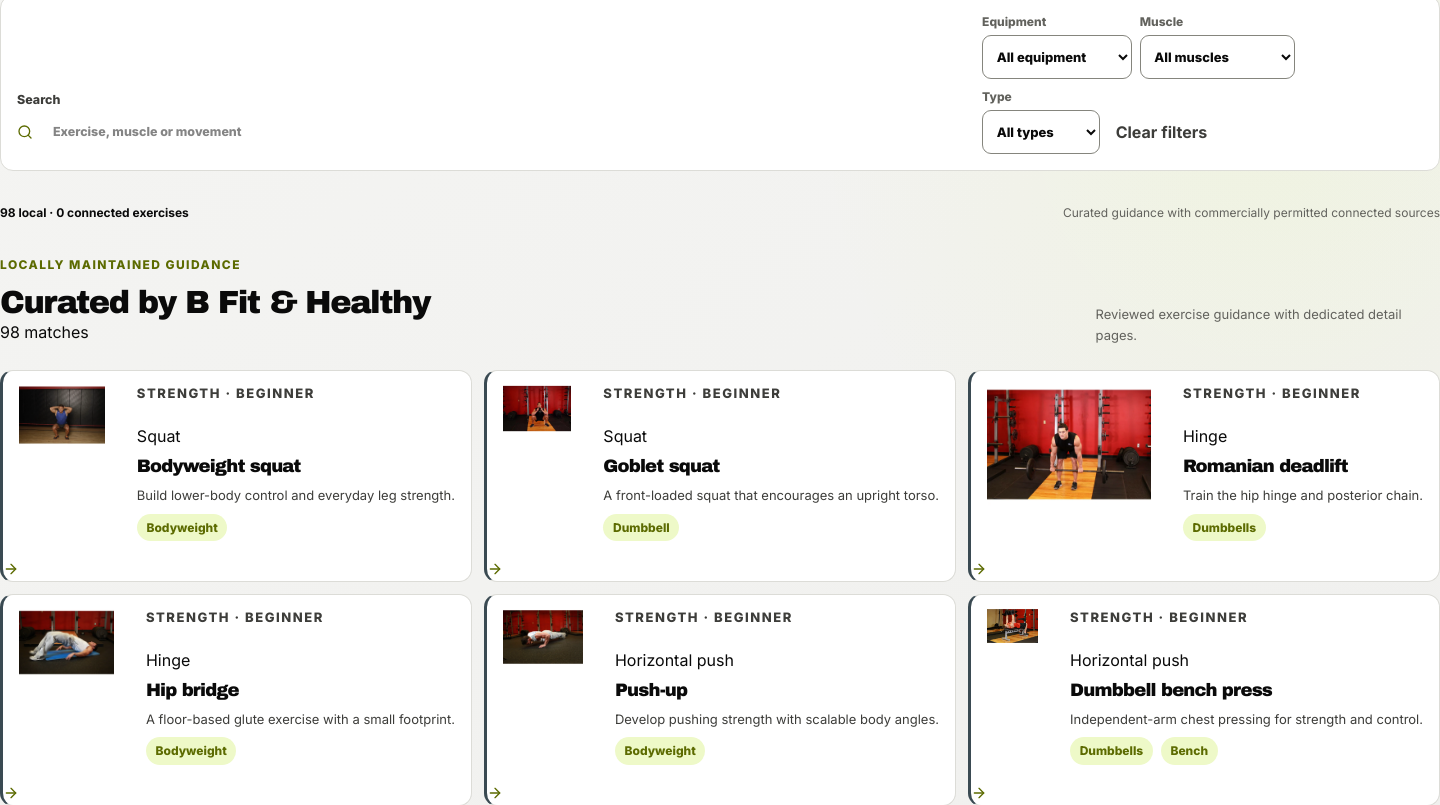
ExerciseLibrary › searches connected libraries when only a muscle is selected
Select "Biceps" in the dropdown labelled "Muscle". click: (1218, 57)
box: [1140, 35, 1295, 79]
Wait 275 ms
(page scrolled)
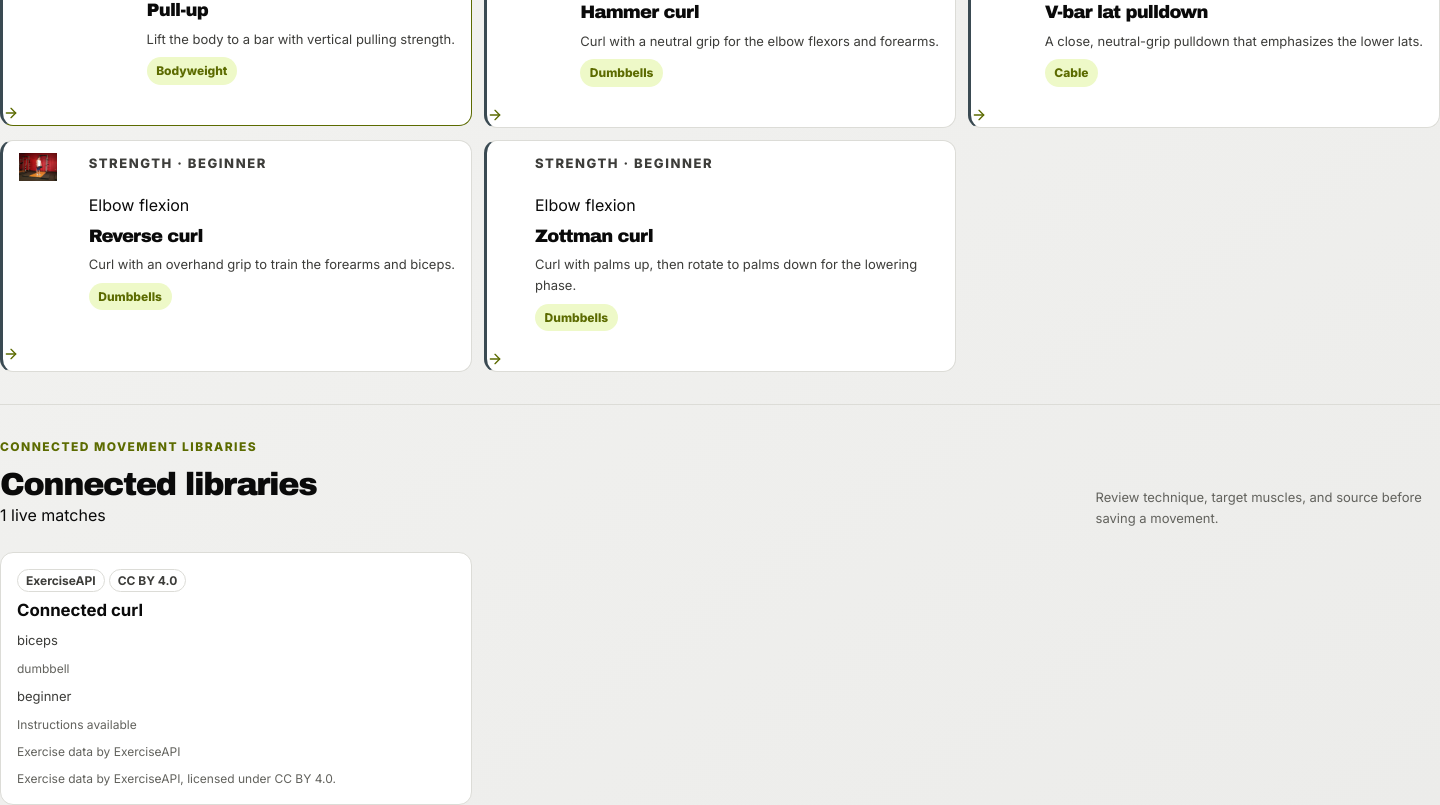
Check: the text "Connected curl" is shown, box [17, 600, 143, 620]
